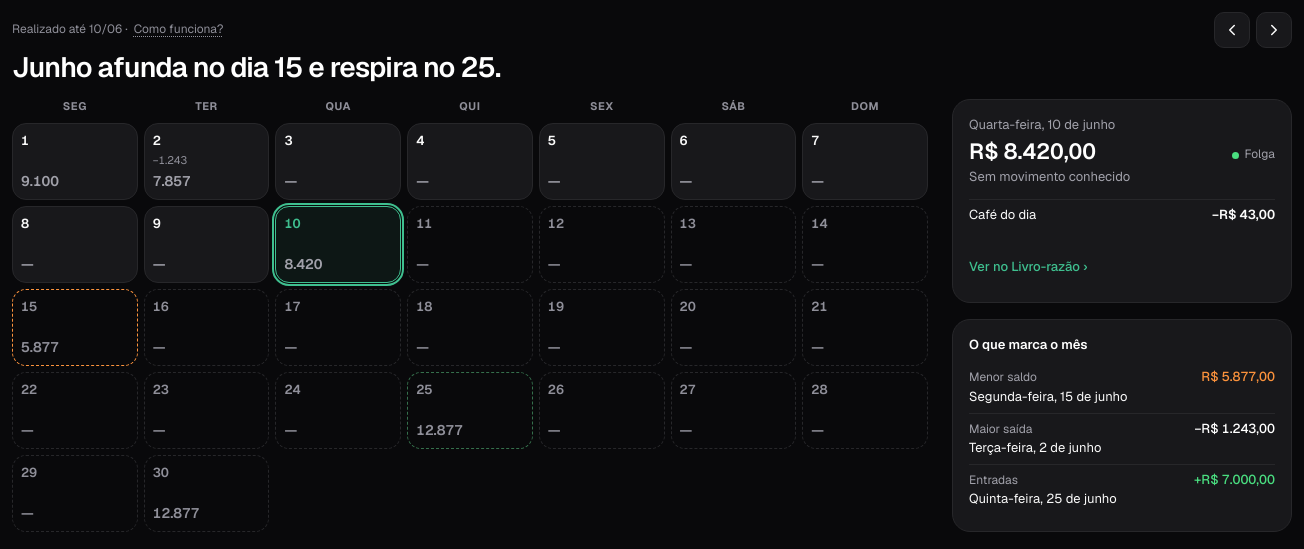
Test case: YearGridScreen (Calendário) › dia fora das correntes mostra o travessão epistêmico na agenda
Note: 20/06 não existe em nenhuma corrente (grid nem forecast).
Click the cell named "20 de junho".
click(733, 327)  # box [671,289,796,366]
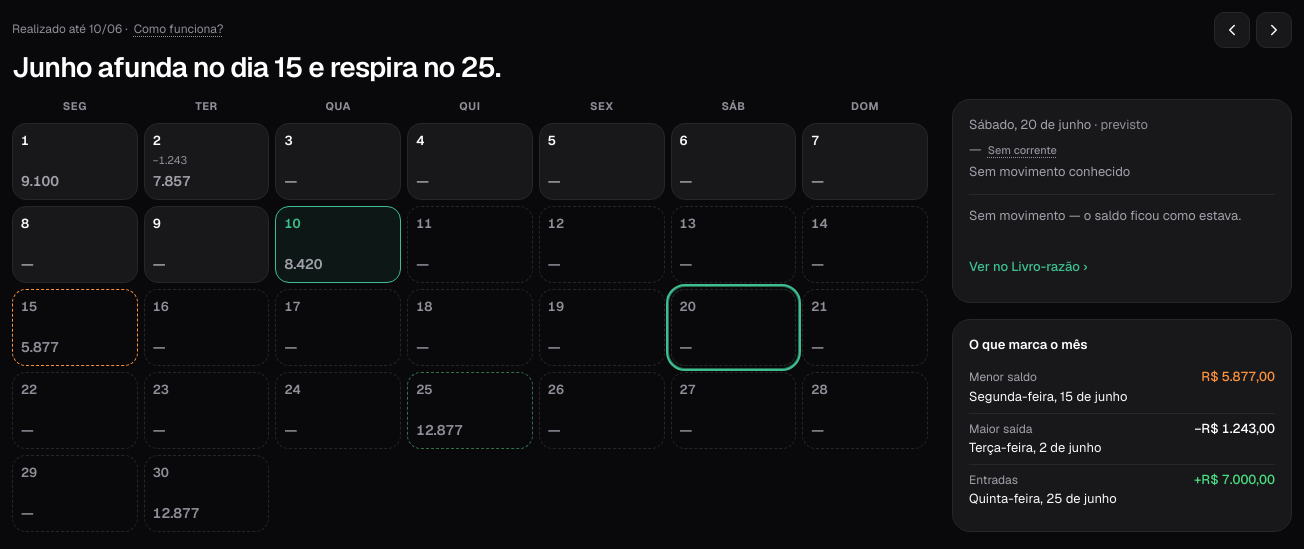
Check: the text "Sem corrente" is shown, box [988,143,1057,158]
